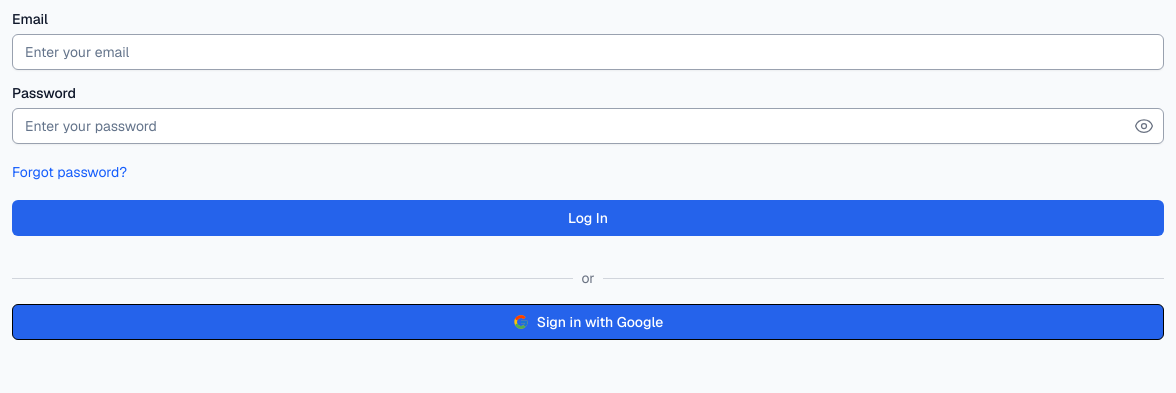
Test case: LoginForm › shows error if login fails
This screenshot has width=1176, height=393.
Type "test@example.com" into the field with placeholder "Enter your email" at (588, 52), box x1=12 y1=34 x2=1164 y2=70
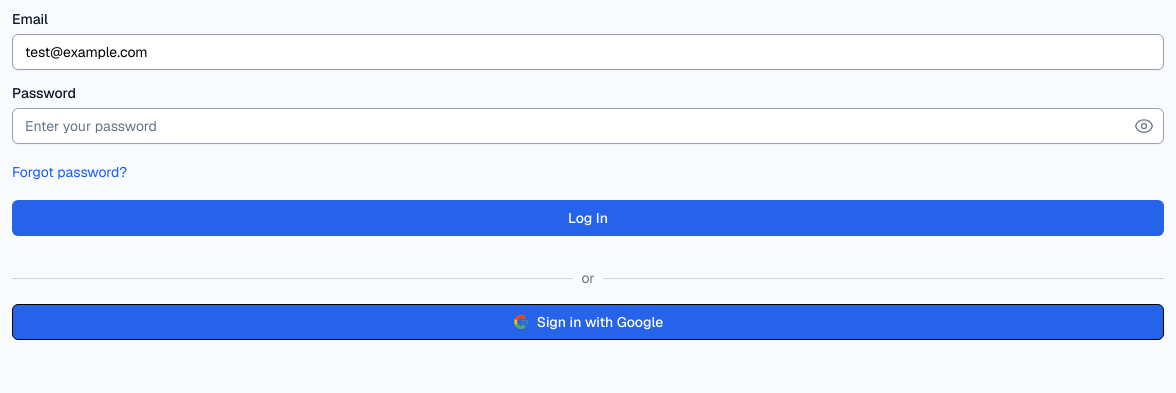
Type "password" into the password field with placeholder "Enter your password" at (588, 126), box x1=12 y1=108 x2=1164 y2=144
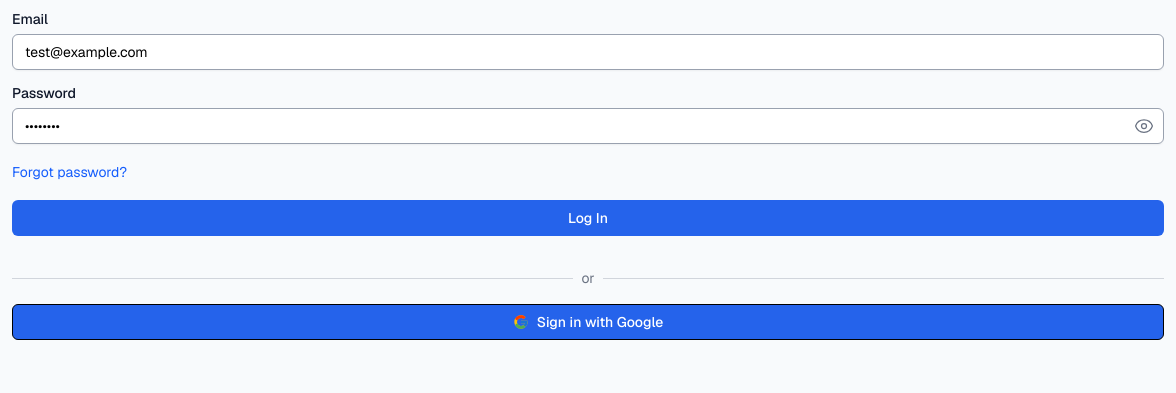
Click the button "Log In" at (588, 218), box x1=12 y1=200 x2=1164 y2=236
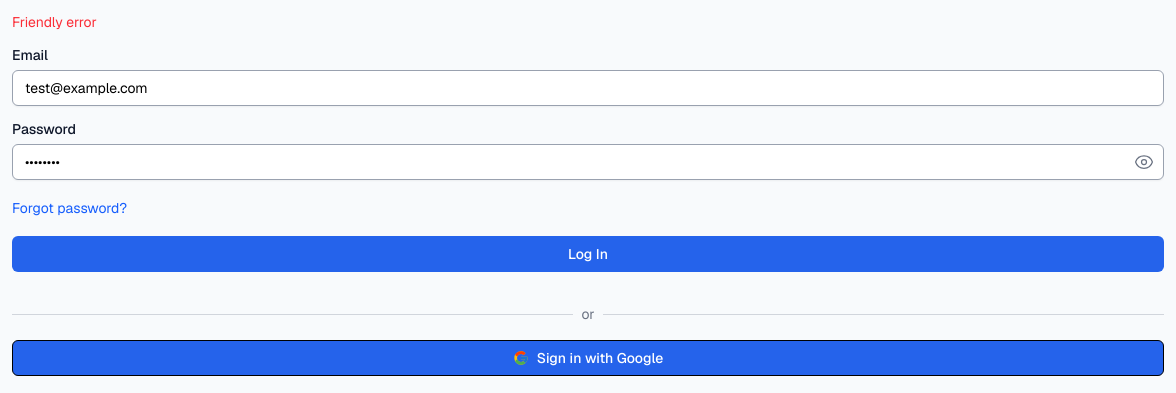
Result: the text "Friendly error" is shown at x1=12 y1=13 x2=97 y2=31
